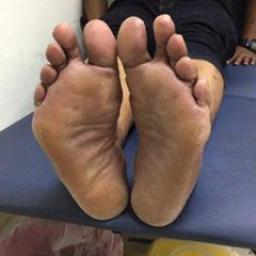Plantar View -Both Feet-: (22, 10, 218, 230)
